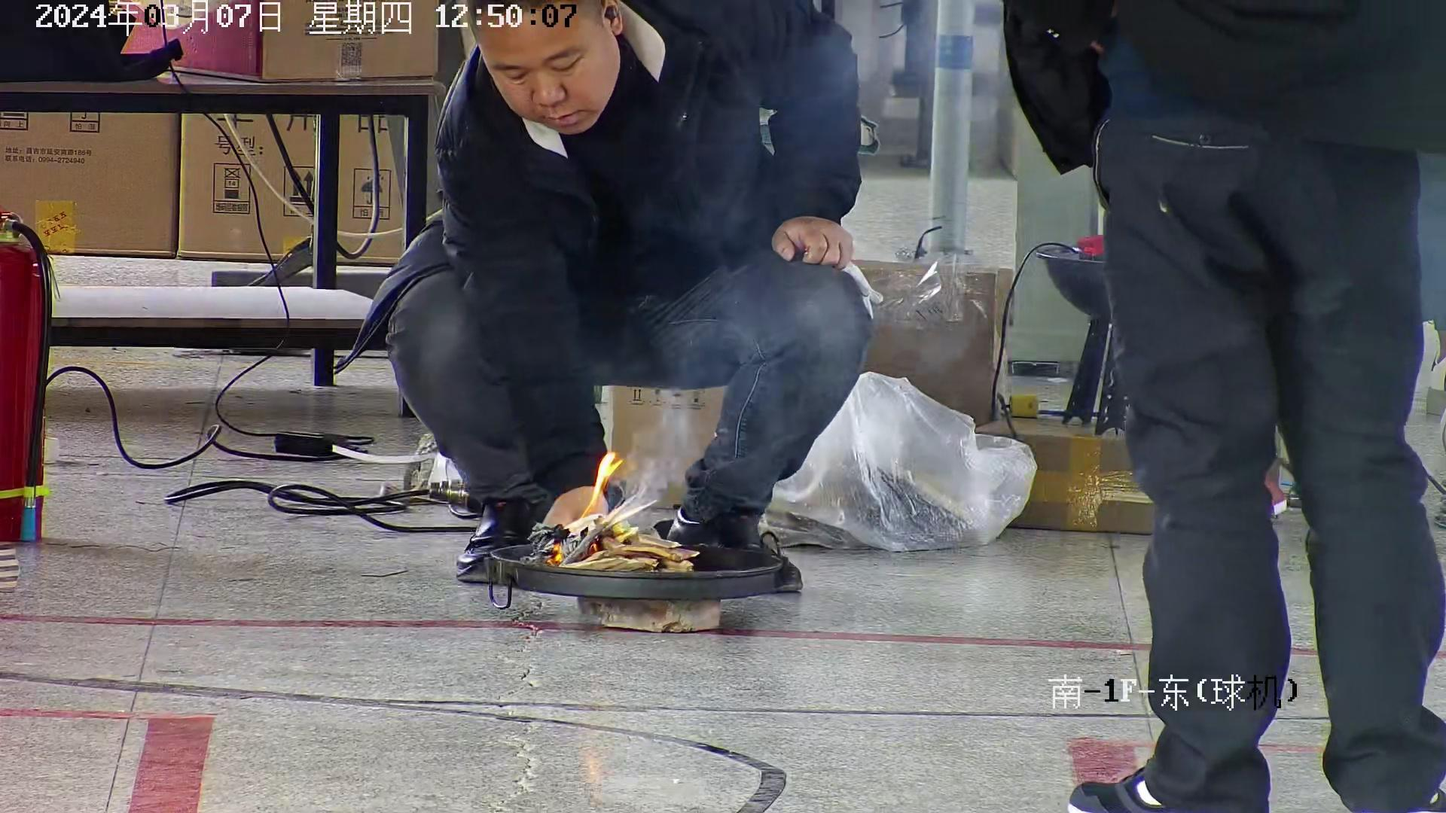fire: (527, 452, 624, 566)
